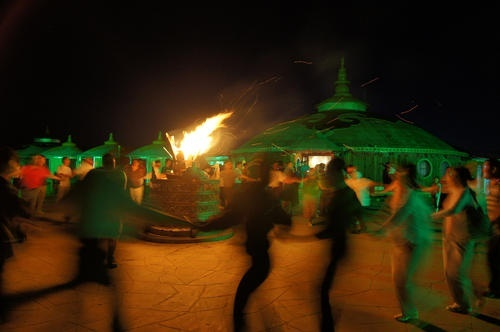fire: (166, 108, 231, 160)
